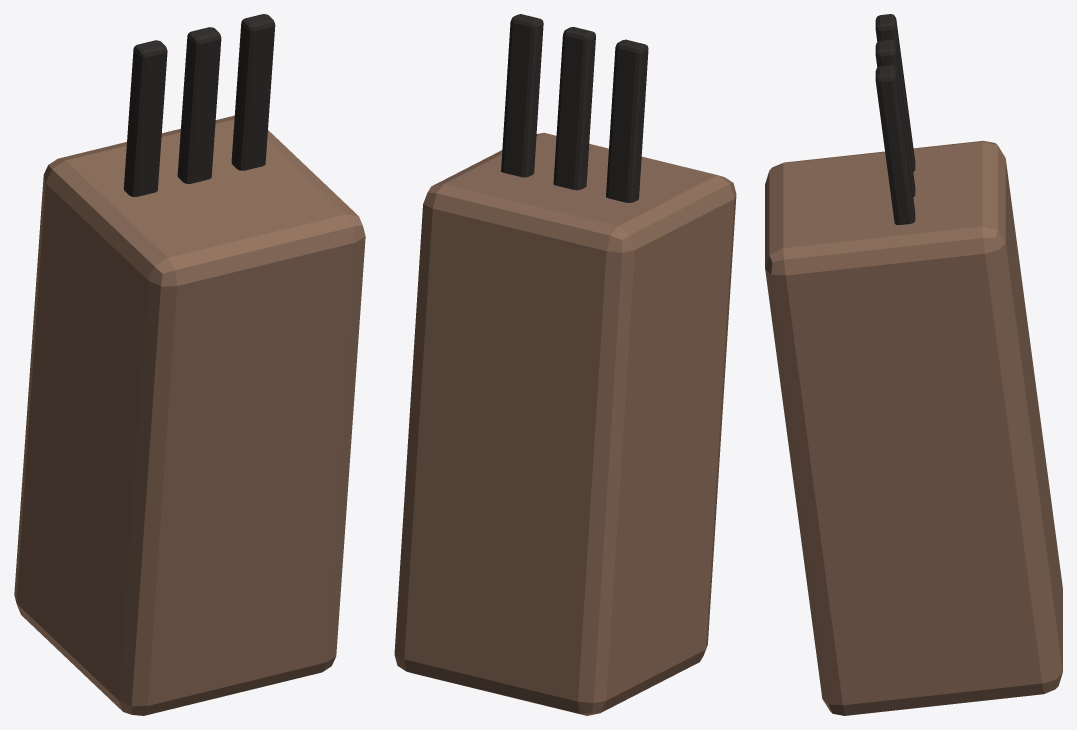
File: hh_knife_block.glb
3 renders of one model, left to right at view 1: azimuth 30°, elevation 25°; view 2: azimuth 150°, elevation 25°; view 3: azimuth 270°, elevation 25°, orthographic. The views are drawn at different scales.
Parts seen in each view (by area): view 1: block, knife, knife.001, knife.002; view 2: block, knife.002, knife.001, knife; view 3: block, knife.002, knife.001, knife.
Boxes of the visible parts, x1,y1,x2,y2 form: block: [14, 115, 365, 715]; knife: [123, 40, 167, 196]; knife.001: [177, 27, 221, 183]; knife.002: [231, 14, 275, 170]; block: [394, 132, 736, 715]; knife.002: [501, 14, 543, 177]; knife.001: [553, 27, 595, 190]; knife: [606, 39, 648, 202]; block: [765, 140, 1062, 715]; knife.002: [875, 65, 915, 224]; knife.001: [875, 39, 915, 197]; knife: [875, 14, 915, 171].
Bounding box in the file's own units: 0.14 × 0.4008 × 0.172.
